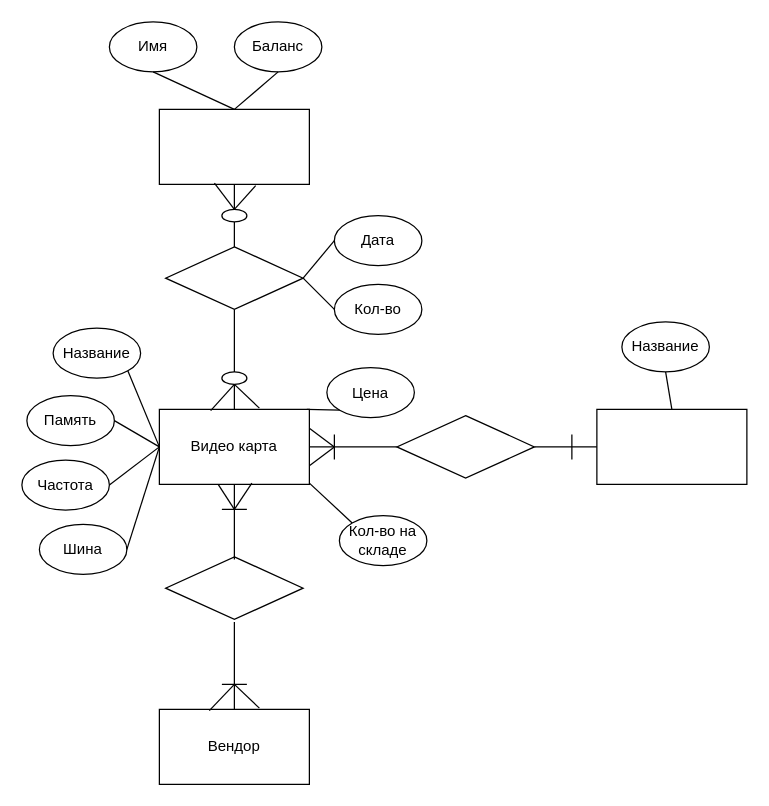
This 769x806 diagram has some shape labels left out. The shapes that lost their labels are listed below. From the top down, each one's box as (x1, y1, x2, y2) in pixels, then its label:
(158, 108, 309, 184): Покупатель
(164, 246, 303, 309): Покупает
(396, 414, 534, 478): Производит
(596, 408, 747, 484): Производитель
(164, 556, 303, 619): Продает
